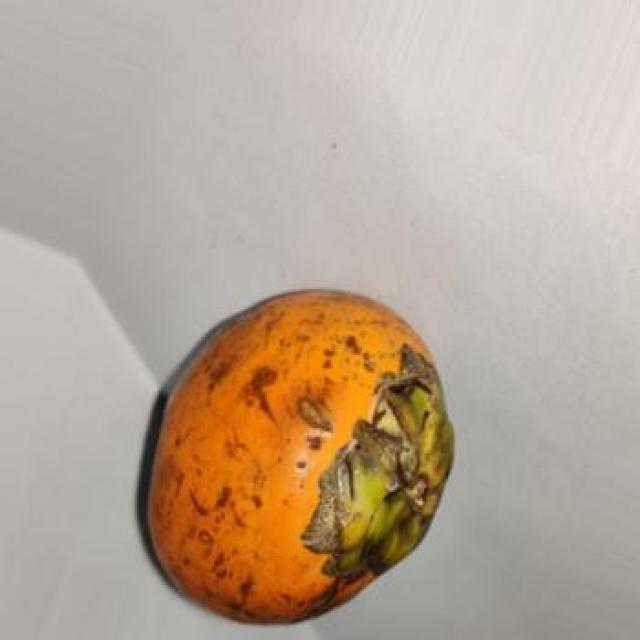good: (137, 289, 455, 625)
